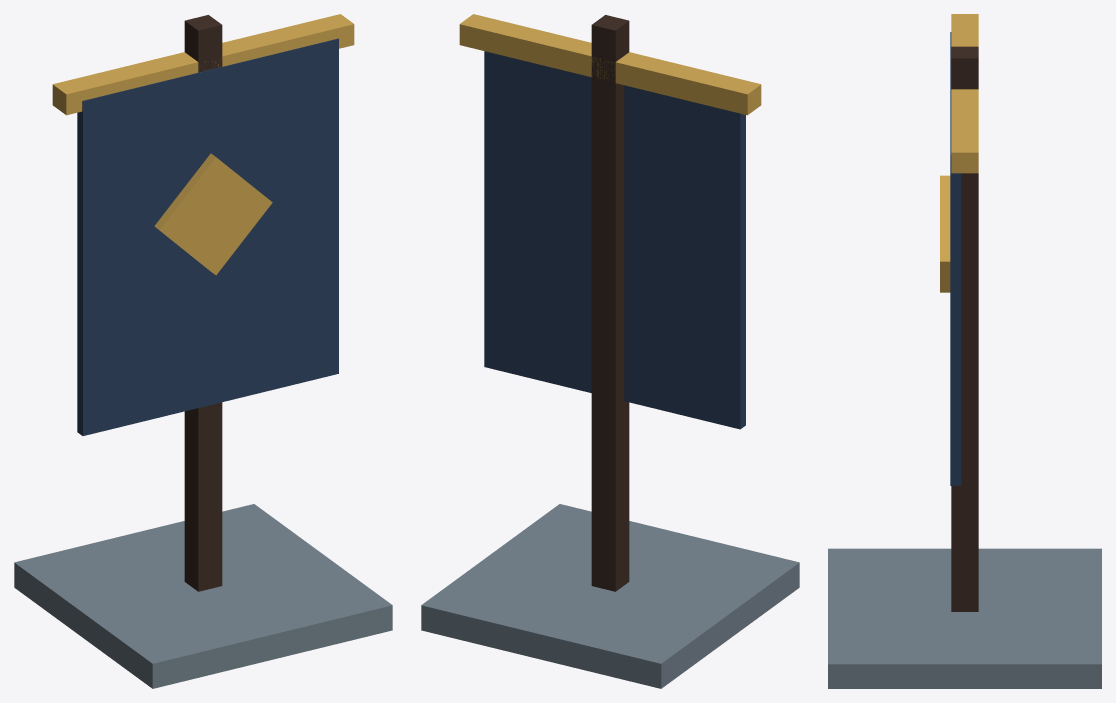
File: guild_banner.glb
The picture shows the model from 3 angles, left to right: view 1: azimuth 30°, elevation 25°; view 2: azimuth 150°, elevation 25°; view 3: azimuth 270°, elevation 25°; orthographic projection.
Visible parts, largest first — view 1: guild_banner; view 2: guild_banner; view 3: guild_banner.
Boxes of the visible parts, bbox=[...] form: guild_banner: bbox=[14, 14, 392, 688]; guild_banner: bbox=[421, 14, 799, 688]; guild_banner: bbox=[828, 14, 1101, 688].
Size of the model in its own units: 3.6 by 7 by 3.
